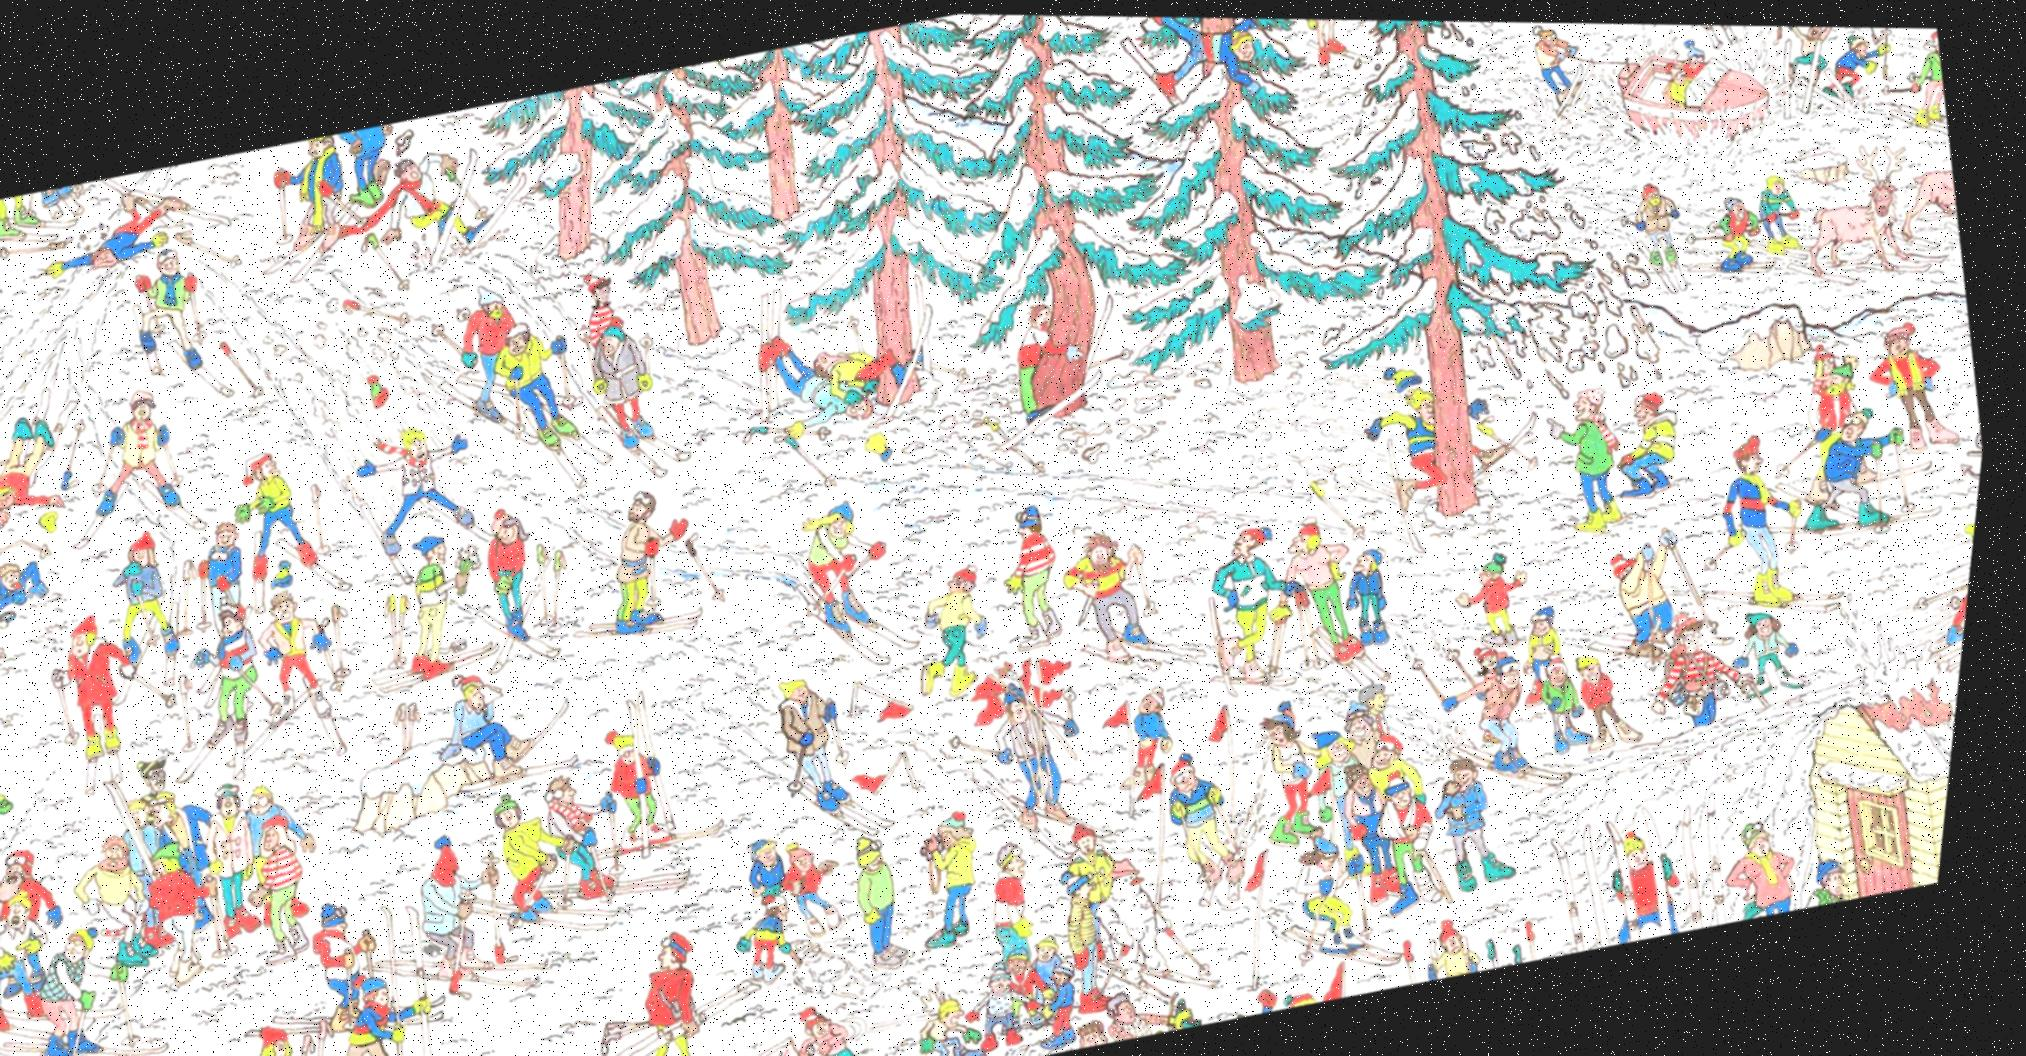waldo: (1680, 598, 1730, 650)
